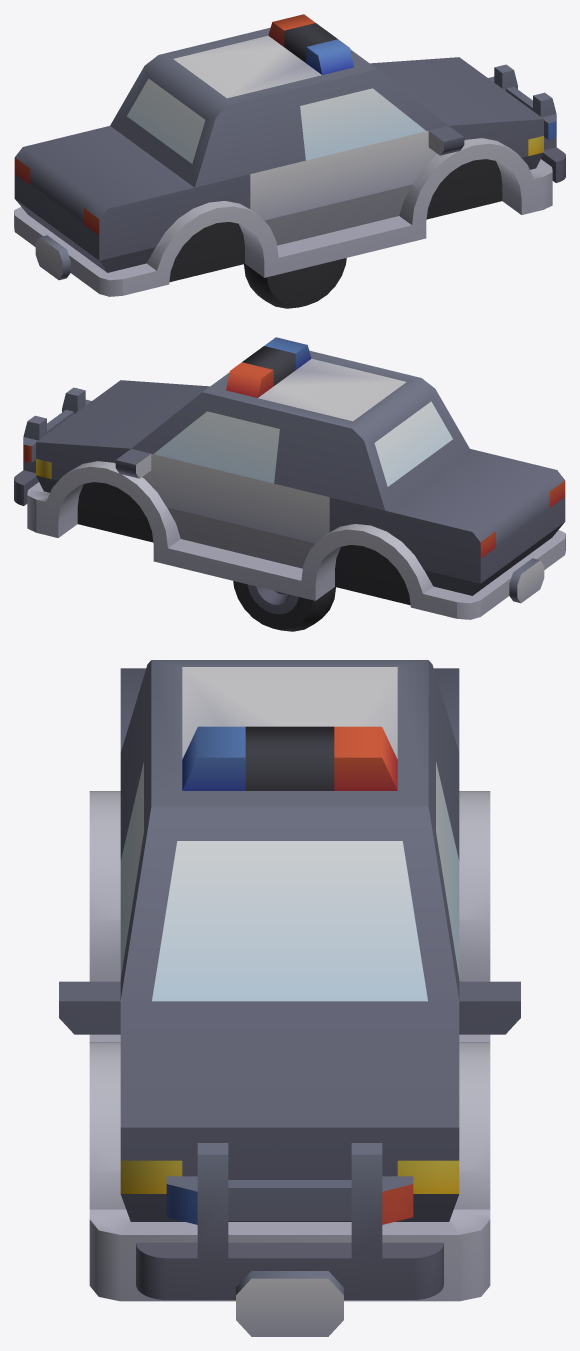
File: police.glb
3 views of the same model, one above another, from view 1: azimuth 30°, elevation 25°; view 2: azimuth 150°, elevation 25°; view 3: azimuth 270°, elevation 25° (orthographic). The views are drawn at different scales.
Parts seen in each view (by area): view 1: body, wheel; view 2: body, wheel; view 3: body.
Part boxes in pixels (left/top/right/bottom): body: left=14, top=14, right=565, bottom=296; wheel: left=244, top=258, right=346, bottom=308; body: left=14, top=337, right=565, bottom=619; wheel: left=233, top=581, right=335, bottom=631; body: left=59, top=660, right=520, bottom=1336.
Bounding box in the file's own units: 4 × 2.06 × 1.63.
